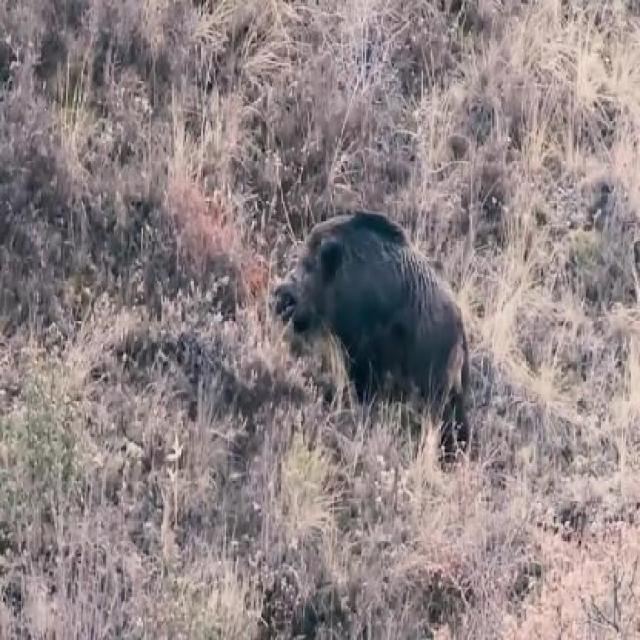pig: (266, 170, 527, 498)
